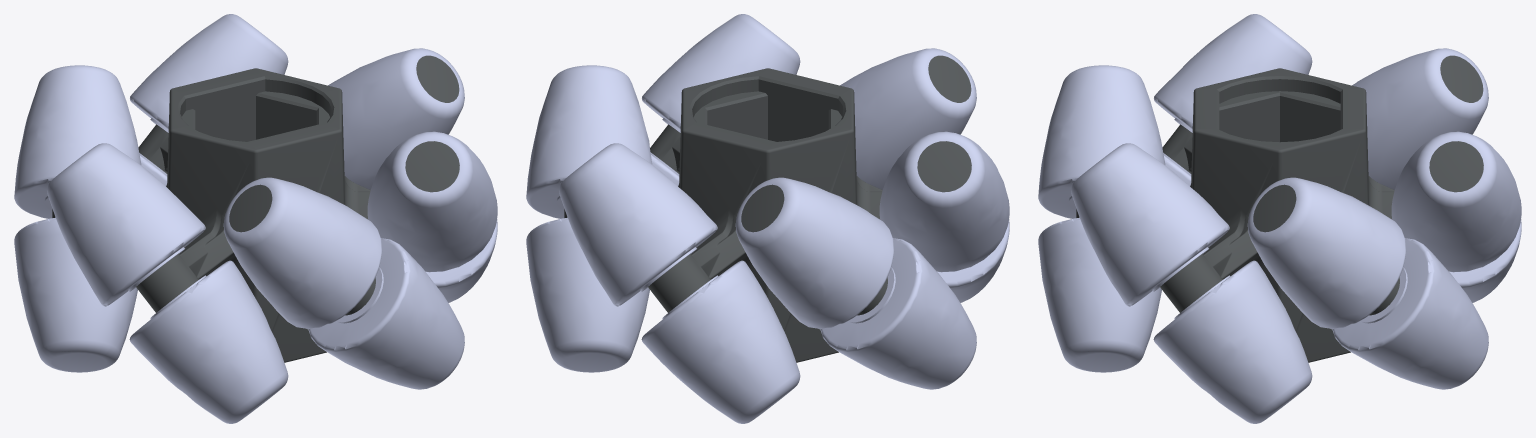
File: 2” Mecanum Wheels V2 (Right) (276-9041-802) .glb
3 views of the same model, side by side, from view 1: azimuth 30°, elevation 25°; view 2: azimuth 150°, elevation 25°; view 3: azimuth 270°, elevation 25° (orthographic).
Visible parts, largest first — view 1: 276-9041-802_PR-015; view 2: 276-9041-802_PR-015; view 3: 276-9041-802_PR-015.
Part boxes in pixels (bbox=[...]): 276-9041-802_PR-015: bbox=[14, 14, 497, 423]; 276-9041-802_PR-015: bbox=[526, 14, 1009, 423]; 276-9041-802_PR-015: bbox=[1038, 14, 1521, 423].
Size of the model in its own units: 0.0506 by 0.0275 by 0.0507.
